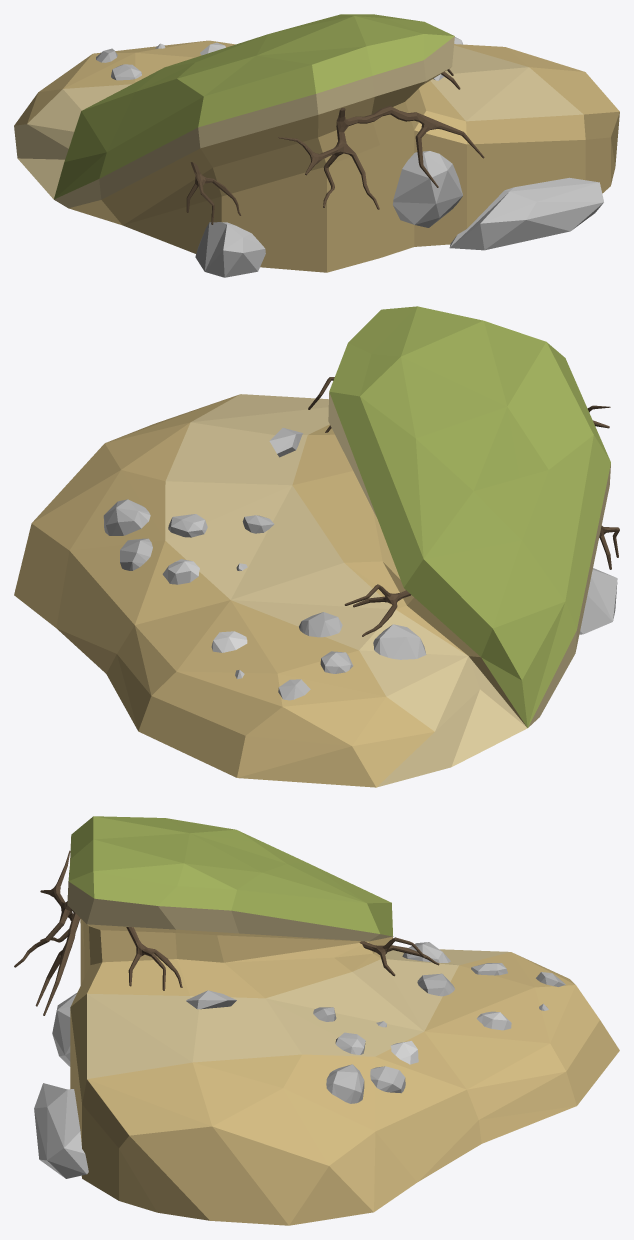
File: EA03_Environment_RiverStraight_01f_R.glb
3 renders of one model, top to bottom at view 1: azimuth 30°, elevation 25°; view 2: azimuth 150°, elevation 25°; view 3: azimuth 270°, elevation 25°, orthographic. The views are drawn at different scales.
Parts seen in each view (by area): view 1: EA03_Environment_RiverStraight_01f_R; view 2: EA03_Environment_RiverStraight_01f_R; view 3: EA03_Environment_RiverStraight_01f_R.
Boxes of the visible parts, bbox=[...] form: EA03_Environment_RiverStraight_01f_R: bbox=[14, 14, 619, 277]; EA03_Environment_RiverStraight_01f_R: bbox=[14, 306, 619, 787]; EA03_Environment_RiverStraight_01f_R: bbox=[14, 816, 619, 1225].
Bounding box in the file's own units: 20.15 × 8.48 × 20.52.
1 material, 1 textured.
